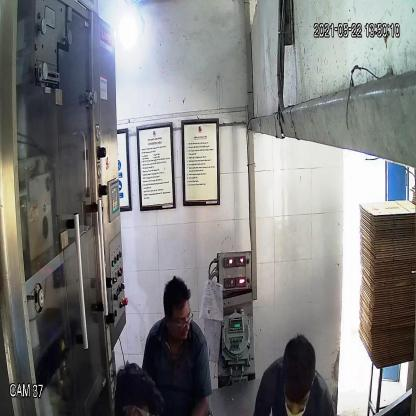goggles: (163, 307, 196, 335)
